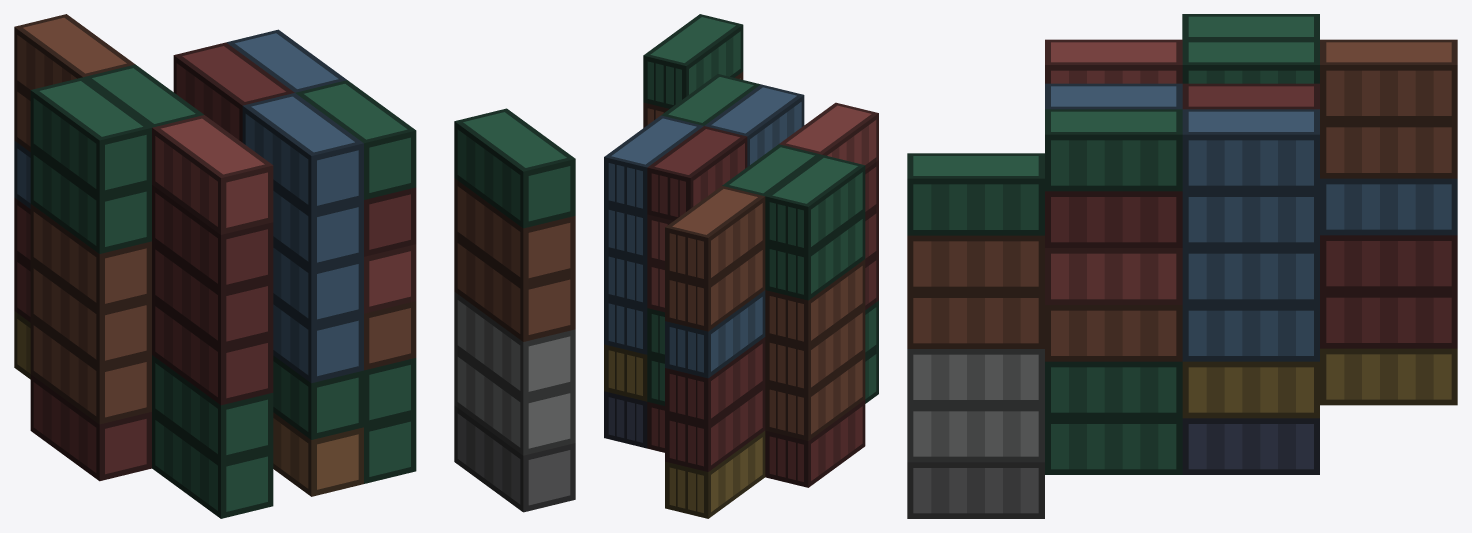
The model's file is light-quay-crane.glb.
3 renders of one model, left to right at view 1: azimuth 30°, elevation 25°; view 2: azimuth 150°, elevation 25°; view 3: azimuth 270°, elevation 25°, orthographic. The views are drawn at different scales.
Parts seen in each view (by area): view 1: light-quay-crane; view 2: light-quay-crane; view 3: light-quay-crane.
Boxes of the visible parts, x1=… form: light-quay-crane: x1=14, y1=14, x2=575, y2=518; light-quay-crane: x1=604, y1=14, x2=878, y2=518; light-quay-crane: x1=907, y1=14, x2=1457, y2=518.
Size of the model in its own units: 37.4 by 36 by 52.8.
